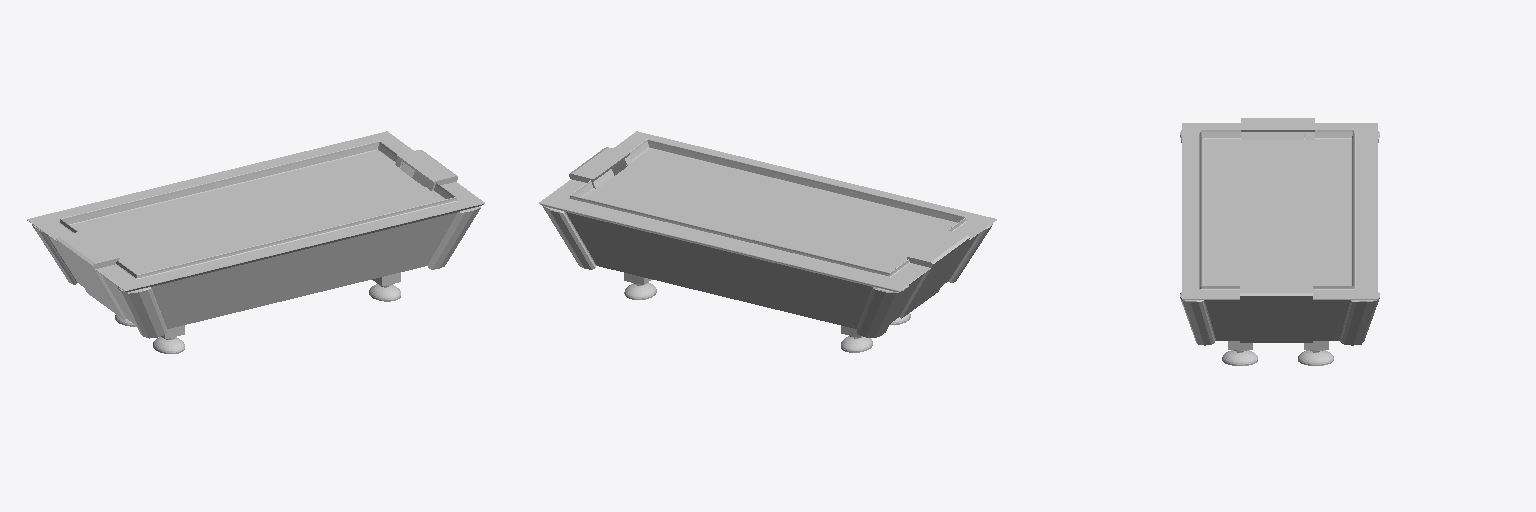
The model's file is AirHockeyTable.obj.
The picture shows the model from 3 angles: view 1: azimuth 30°, elevation 25°; view 2: azimuth 150°, elevation 25°; view 3: azimuth 270°, elevation 25°; orthographic projection.
Parts seen in each view (by area): view 1: Cube.002_Cube.001; view 2: Cube.002_Cube.001; view 3: Cube.002_Cube.001.
Boxes of the visible parts, x1,y1,x2,y2 form: Cube.002_Cube.001: [27, 131, 484, 353]; Cube.002_Cube.001: [539, 131, 996, 352]; Cube.002_Cube.001: [1180, 118, 1379, 365].
Size of the model in its own units: 32 by 8.41 by 15.17.